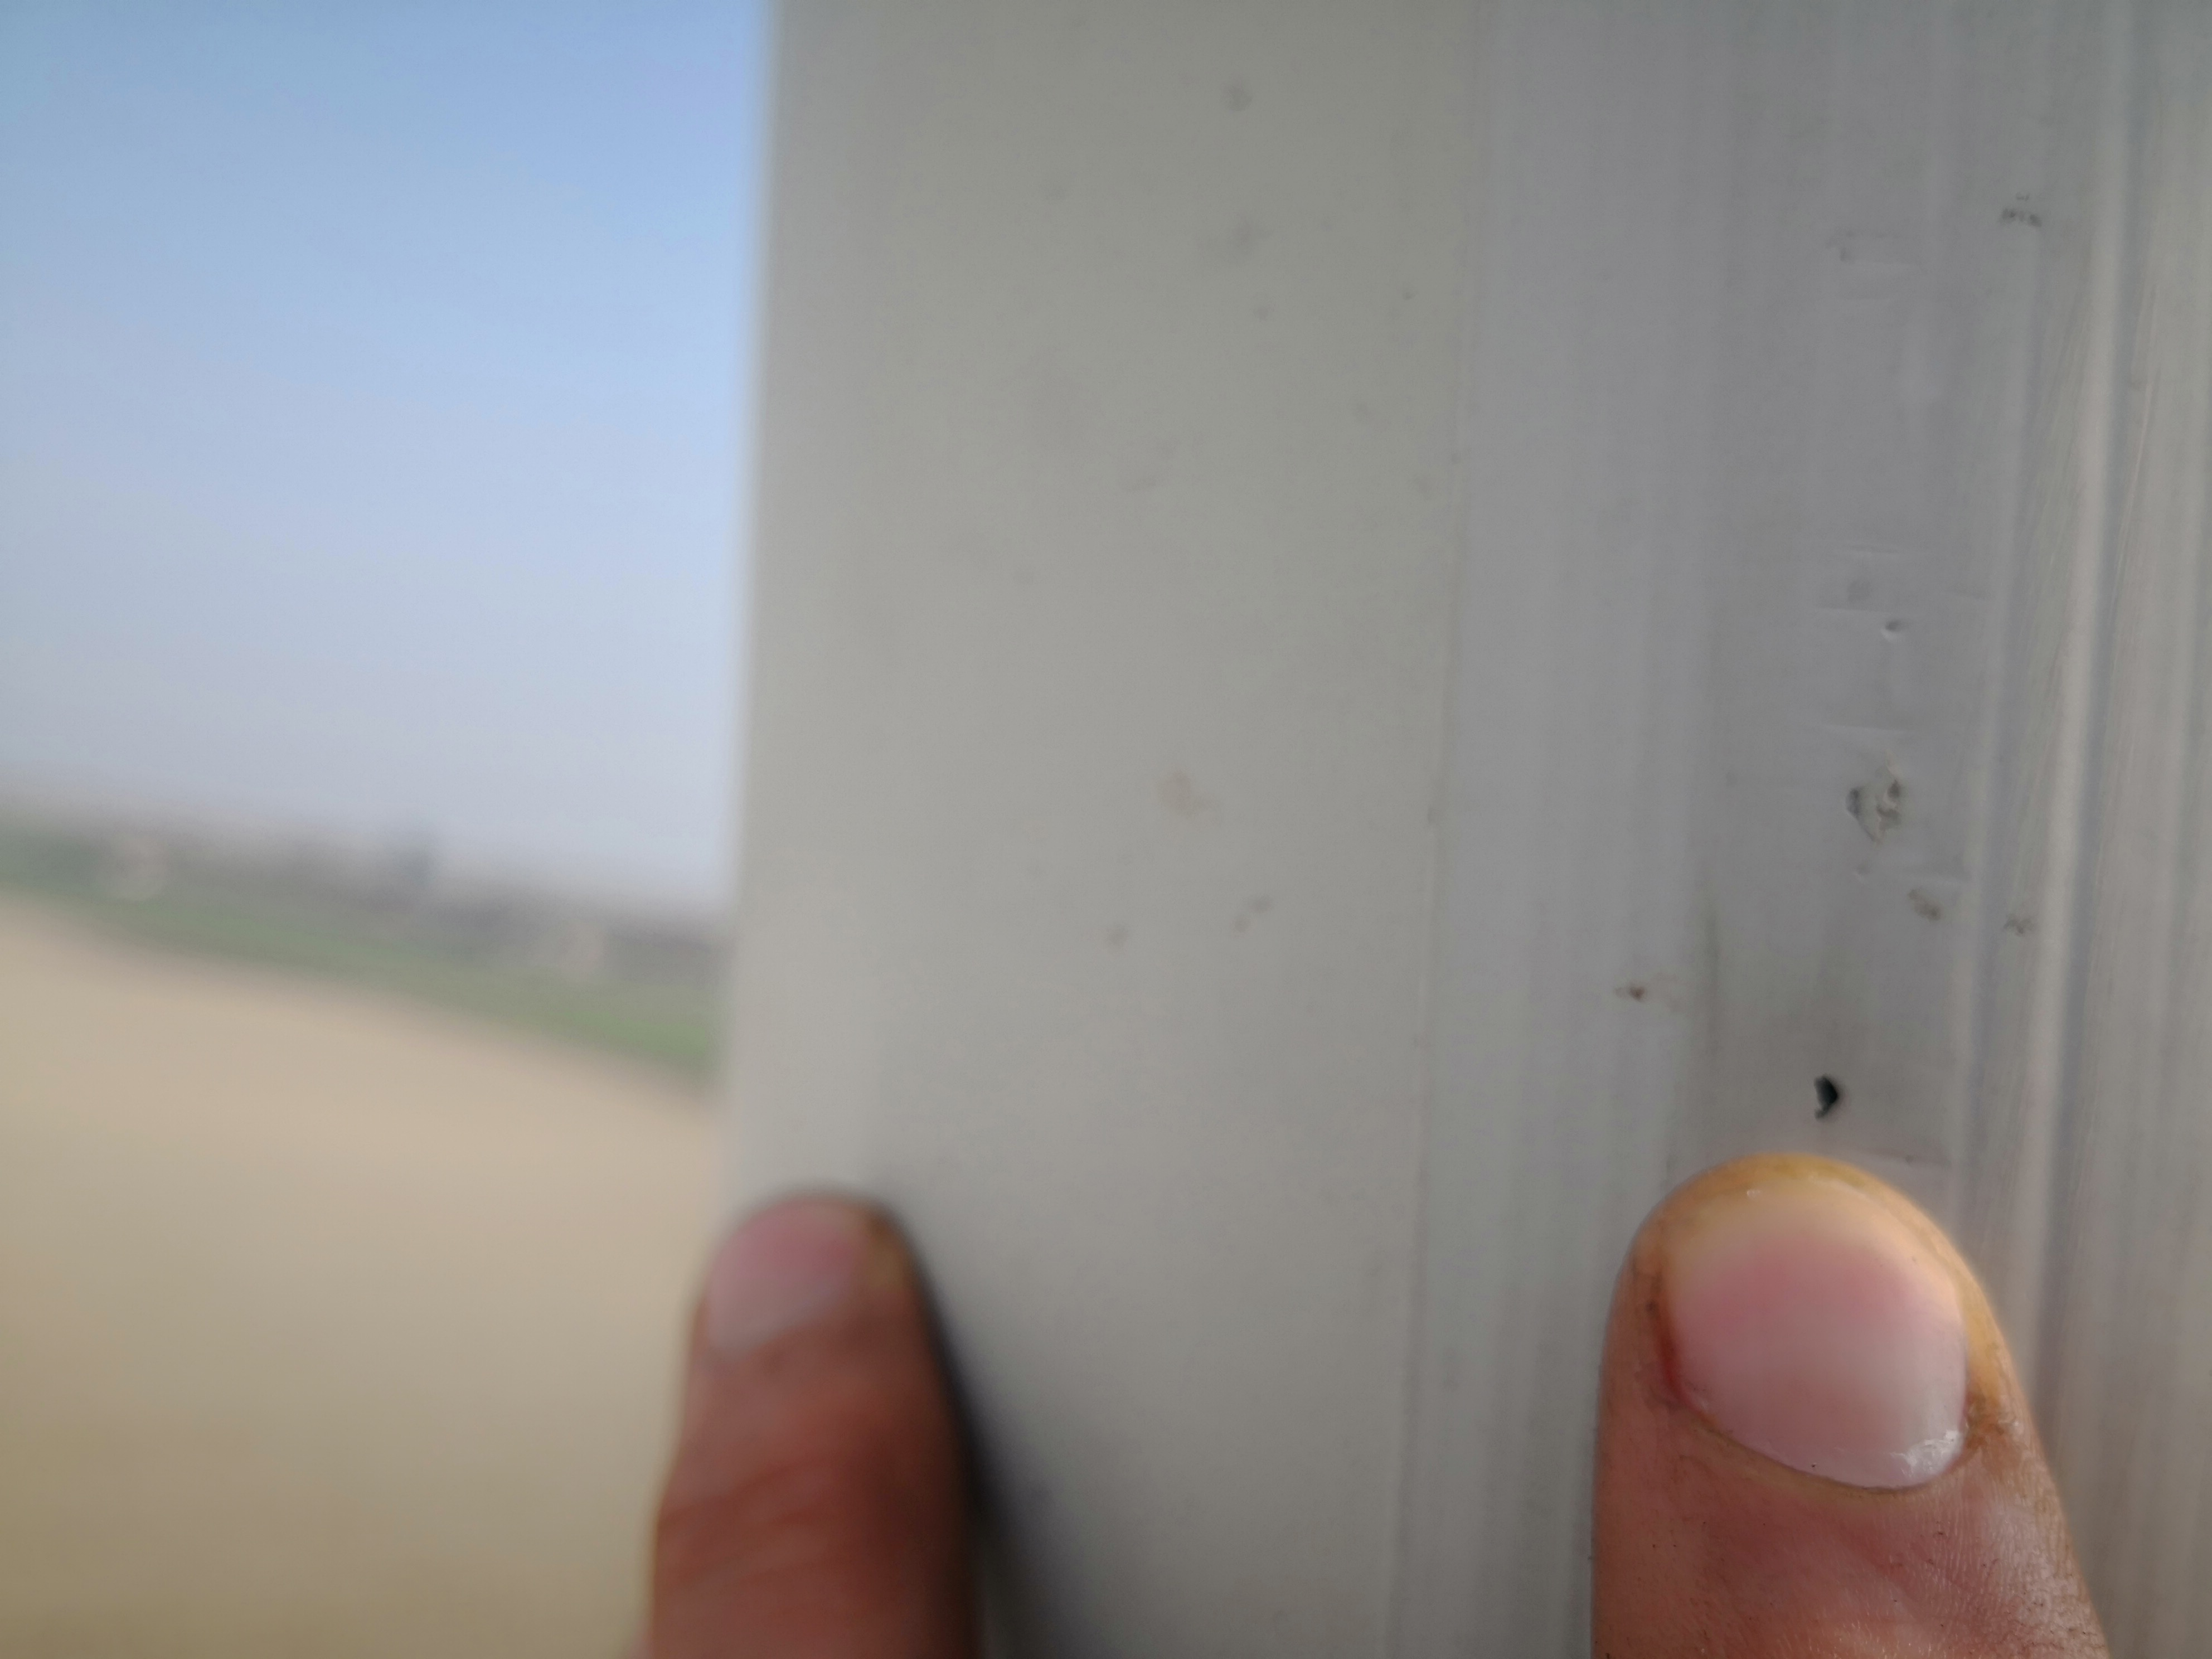SD: (1796, 1063, 1862, 1124)
